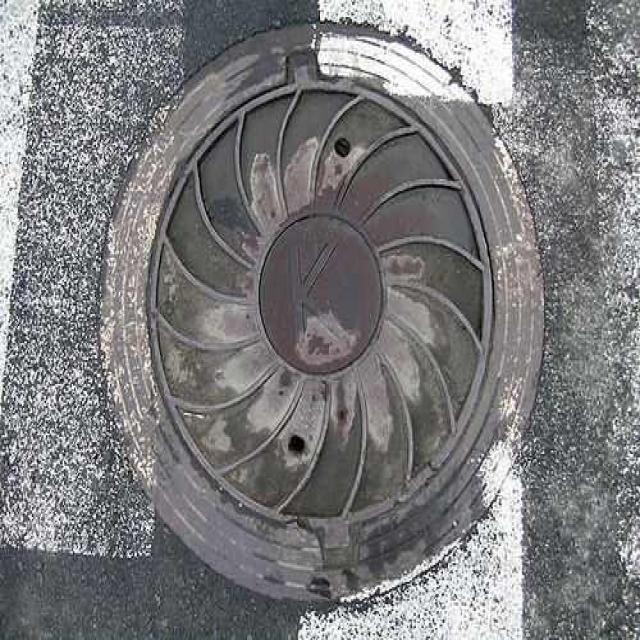manhole: (105, 25, 542, 599)
